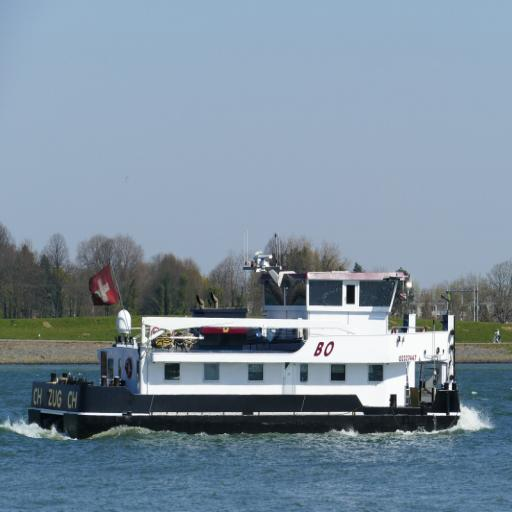tugboat: (24, 227, 466, 452)
